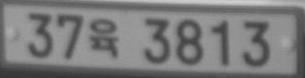1: (212, 20, 233, 64)
3: (243, 21, 270, 66), (27, 11, 53, 57), (145, 18, 170, 64)
7: (58, 14, 83, 59)
8: (177, 18, 203, 64)
육: (89, 18, 118, 57)
